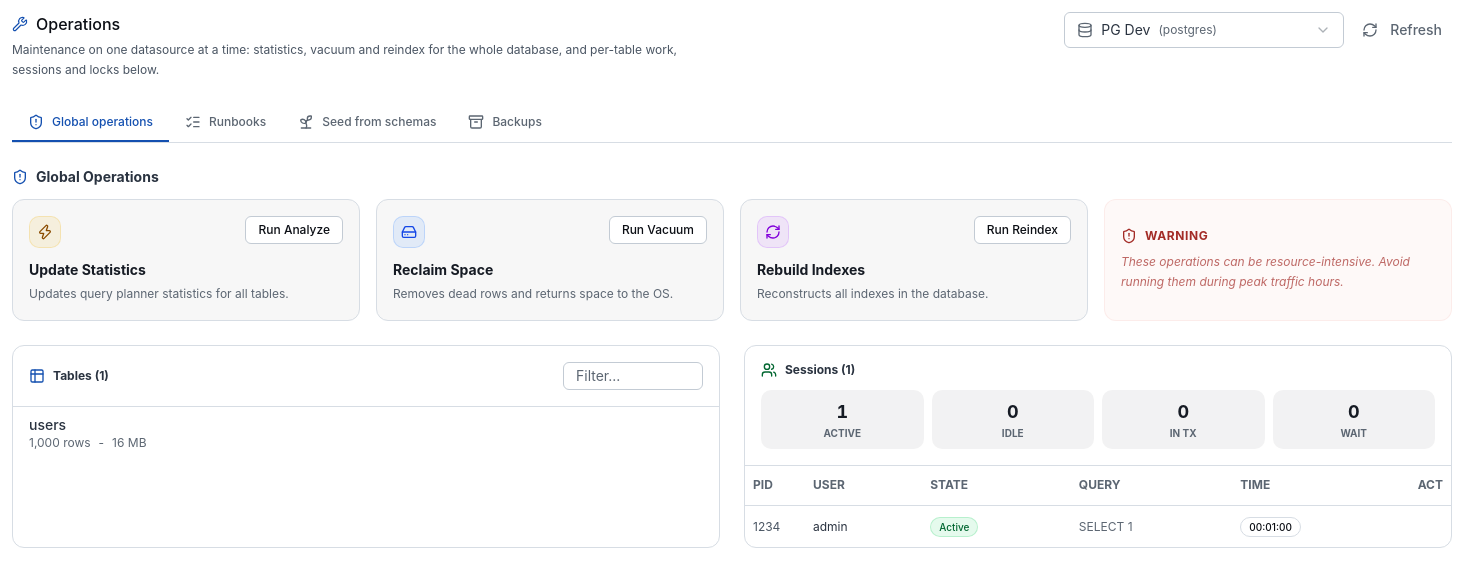
Scenario: OperationsTab › shows no tables found when filter matches nothing
Type "zzz_nonexistent" into the field with placeholder "Filter..." at (633, 376), box top-left (563, 362), bottom-right (703, 390)
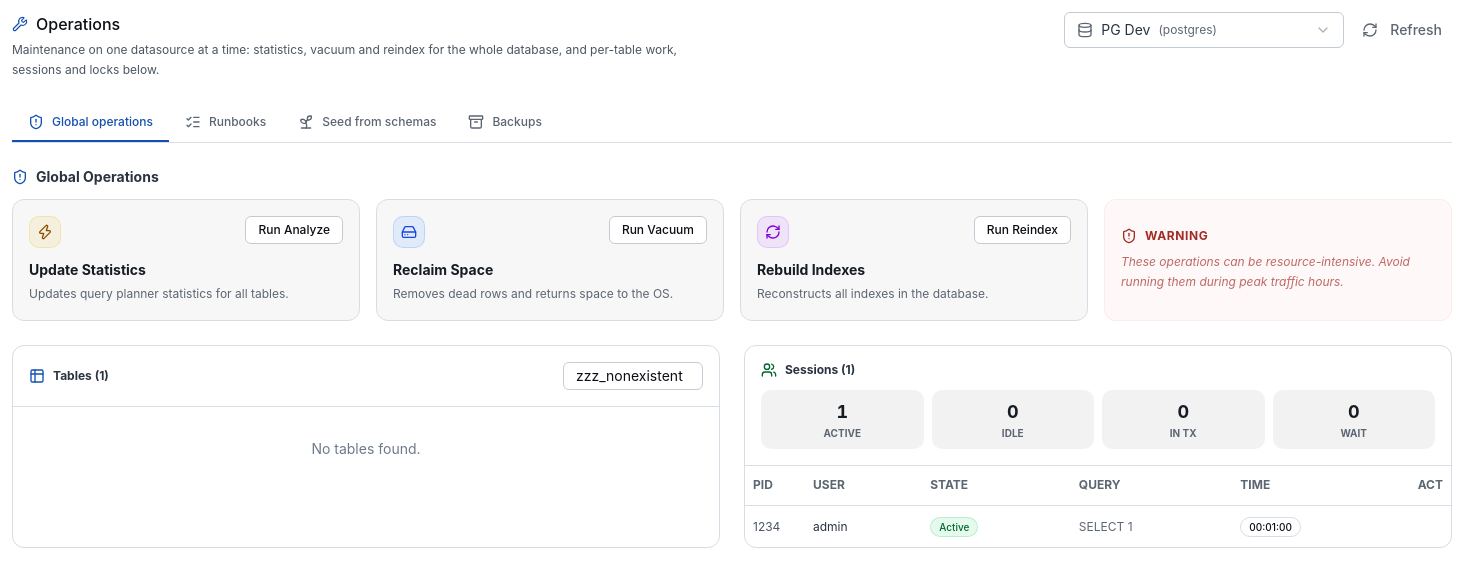
Result: the text "No tables found." is shown at top-left (311, 440), bottom-right (421, 456)
